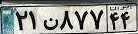character: (73, 7, 89, 32), (90, 7, 105, 30), (14, 8, 28, 32), (59, 8, 73, 32), (42, 14, 60, 32), (119, 11, 134, 30), (28, 8, 39, 33), (108, 11, 120, 30)
